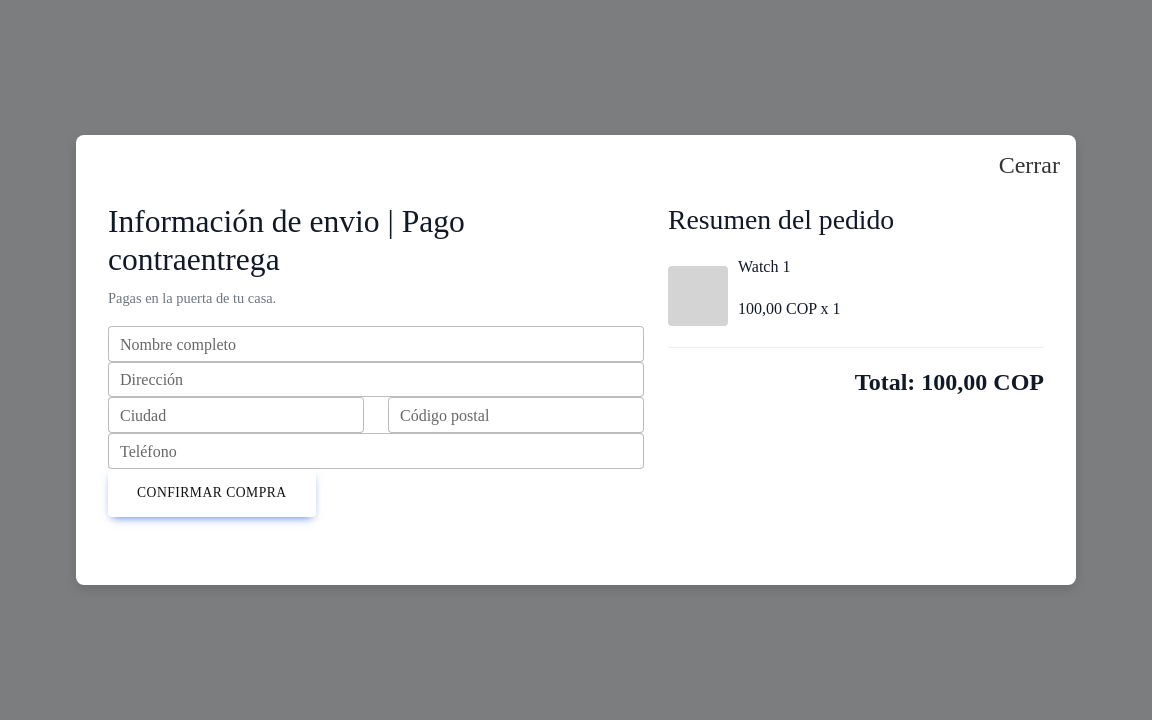
Scenario: Checkout integration › error al crear la orden muestra mensaje
The image size is (1152, 720).
Type "Test User" into the field next to "Nombre completo" at (376, 344), box [108, 326, 644, 362]
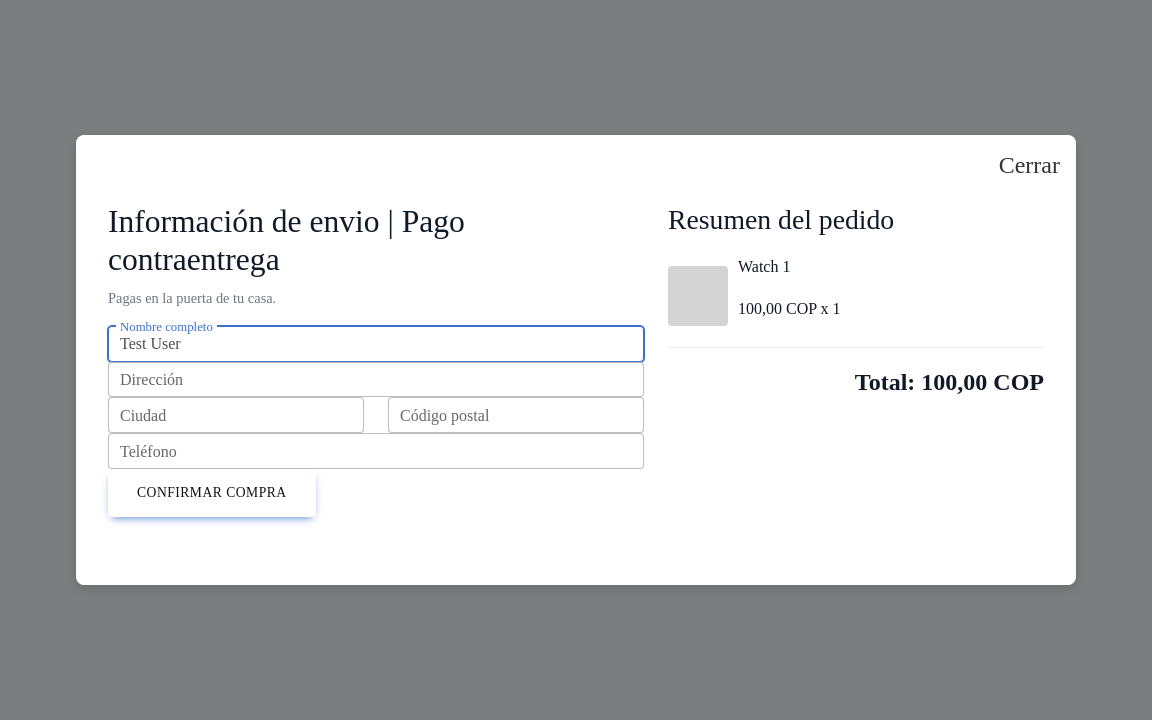
Type "123 Main St" into the field next to "Dirección" at (376, 380), box [108, 362, 644, 397]
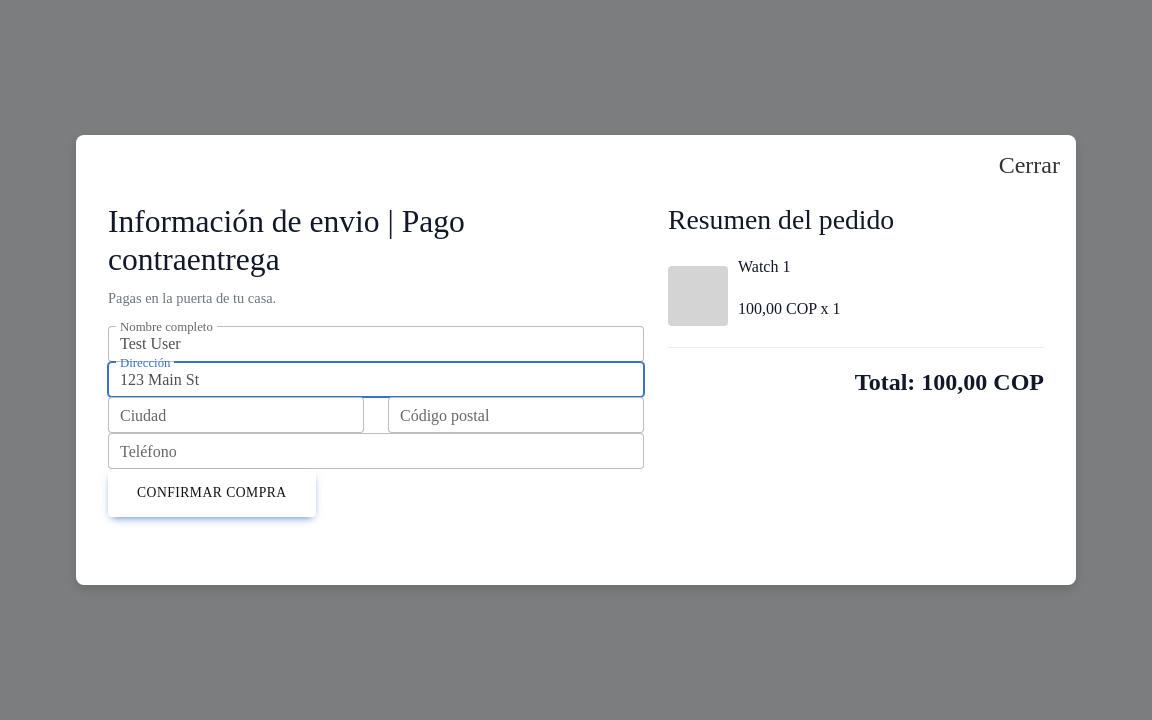
Type "City" into the field next to "Ciudad" at (236, 415), box [108, 397, 364, 433]
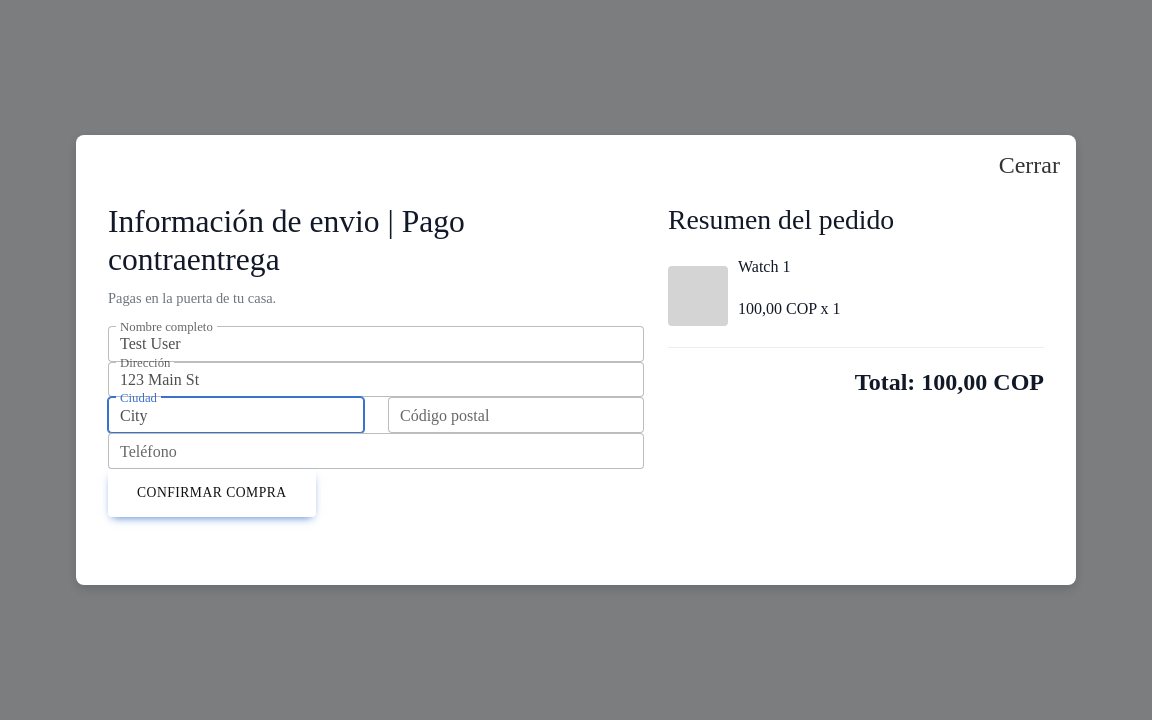
Type "12345" into the field next to "Código postal" at (516, 415), box [388, 397, 644, 433]
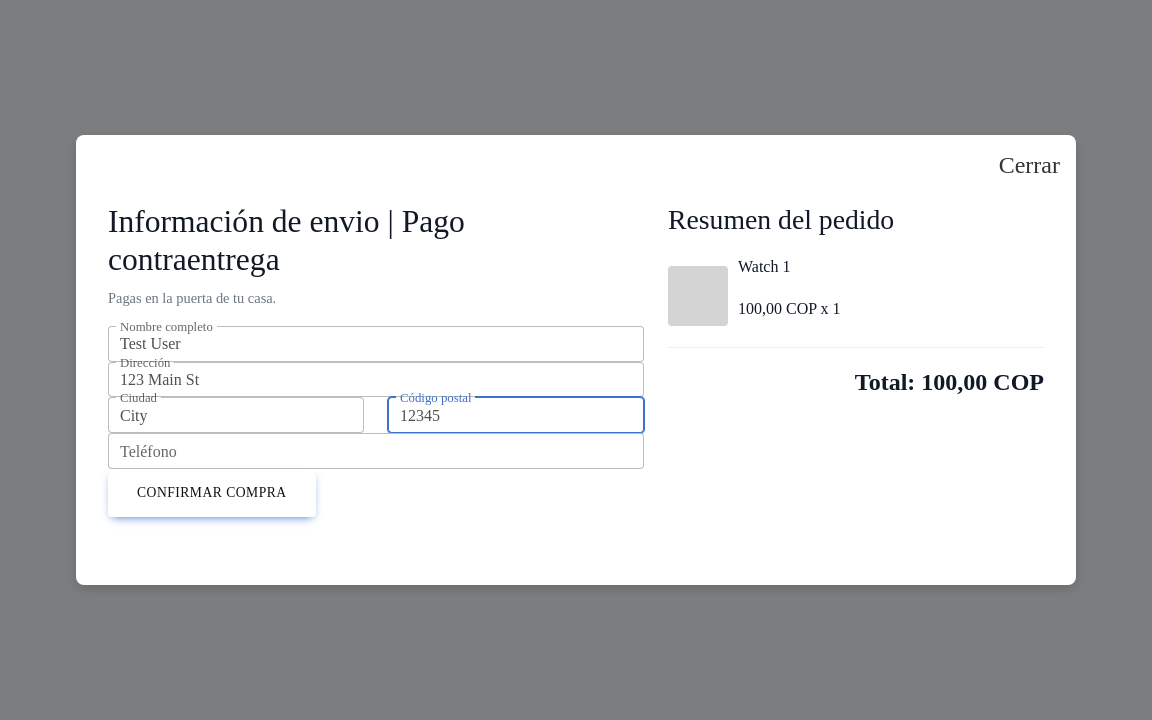
Type "555-1234" into the field next to "Teléfono" at (376, 451), box [108, 433, 644, 469]
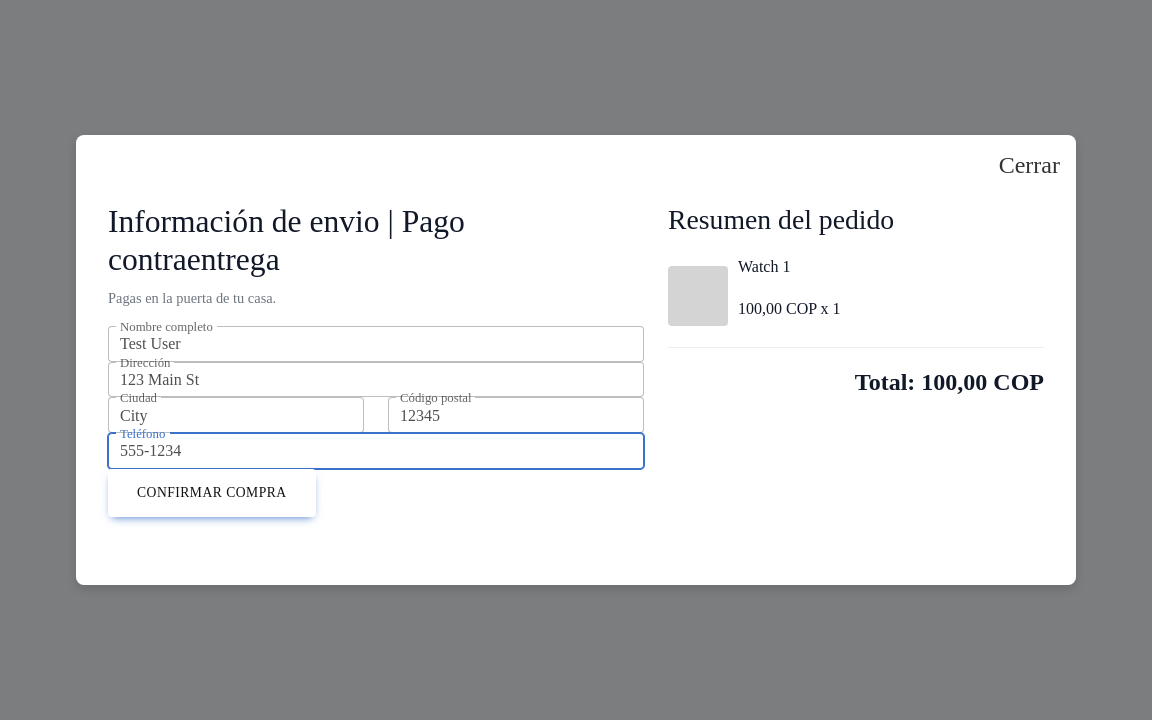
Click the button "Confirmar compra" at (212, 493), box [108, 469, 316, 517]
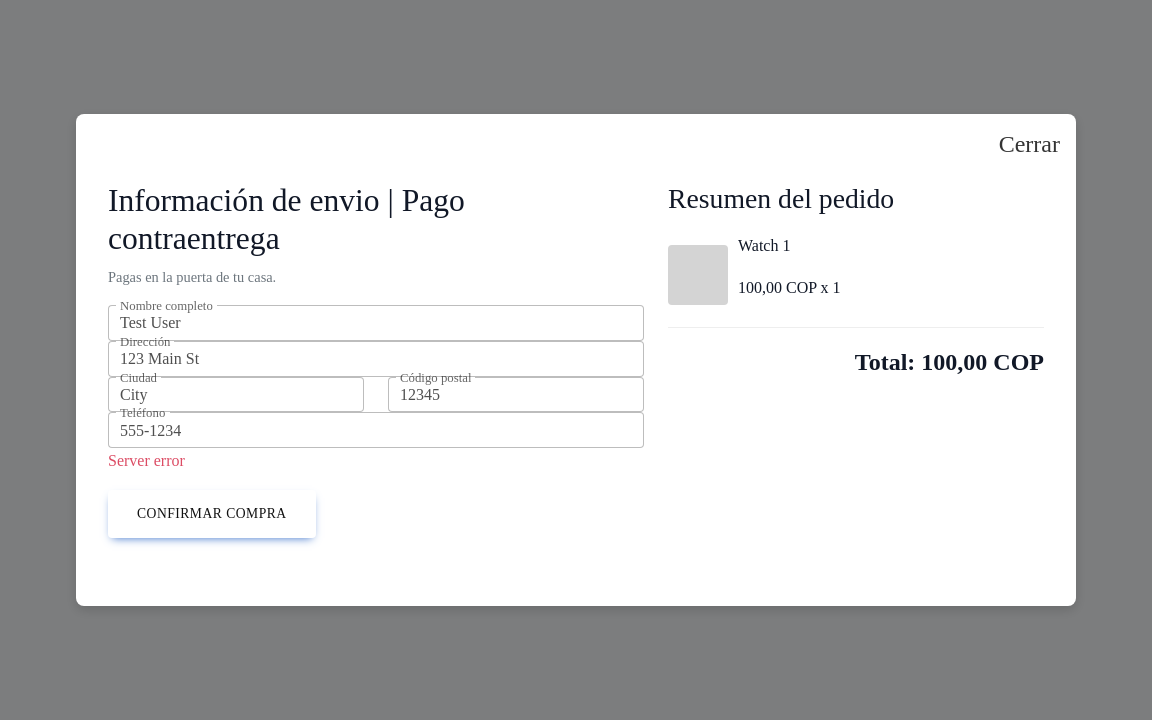
Result: the text "Server error" is shown at [108, 452, 185, 469]
